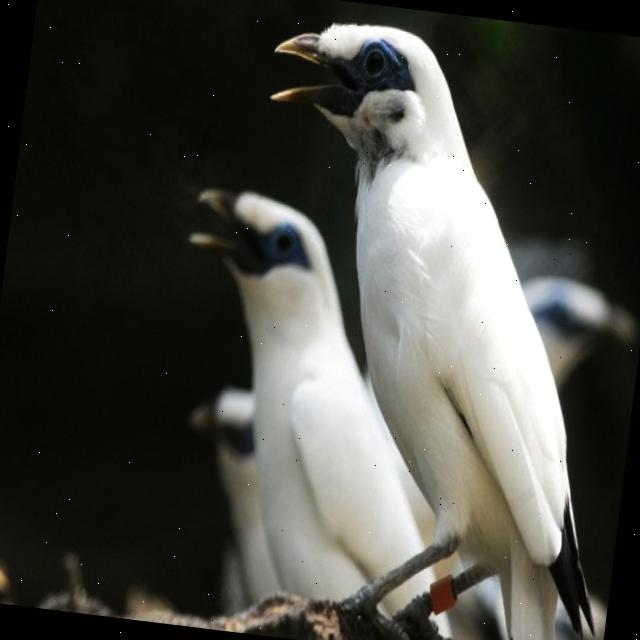Jalak Bali: (199, 0, 640, 640), (134, 162, 468, 640), (161, 356, 285, 607), (510, 256, 640, 408)
